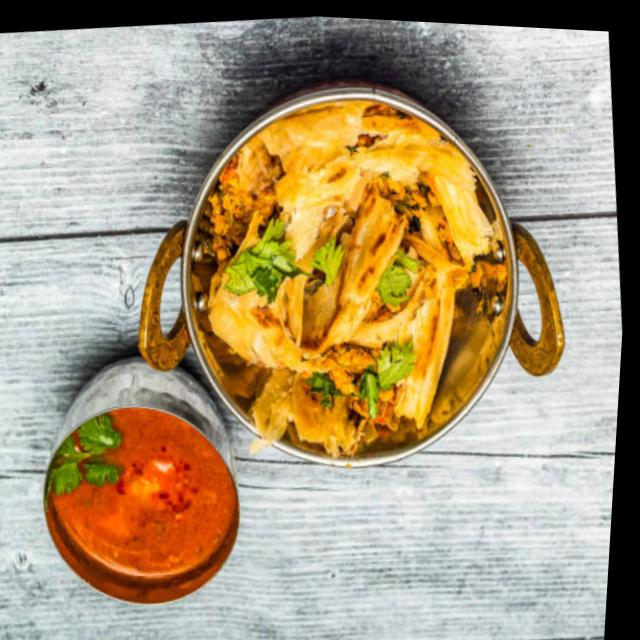CHICKEN FRY: (197, 95, 504, 448)
KURMA: (52, 412, 230, 580)
